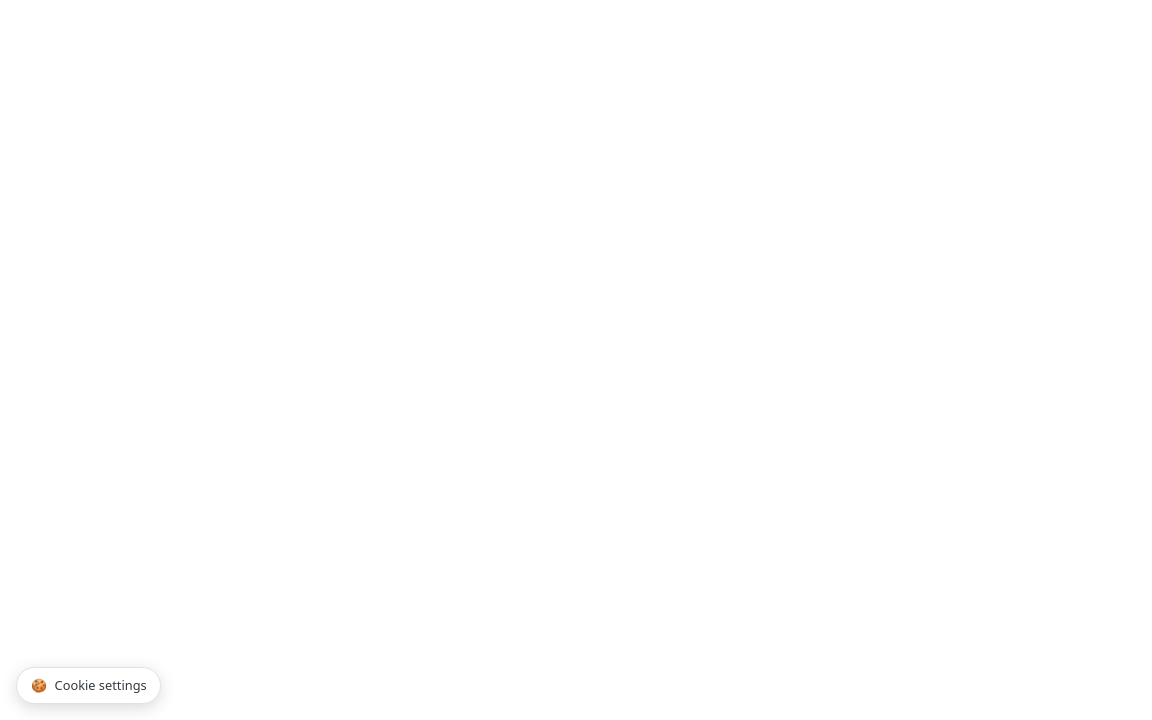
Test case: reopens the notice so the answer can be changed later
Later steps or results of the test are not shown.
Click the button "🍪 Cookie settings": (89, 685) [16, 667, 161, 704]
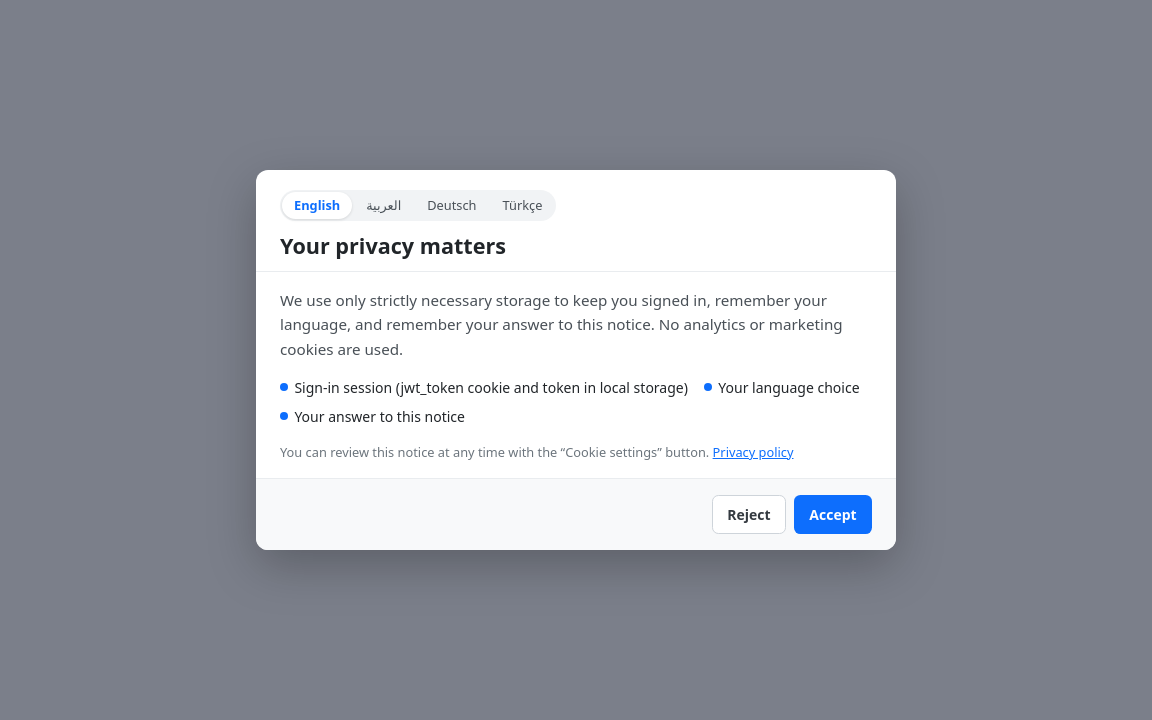
Now the heading "Your privacy matters" is shown, box [280, 231, 506, 260]
